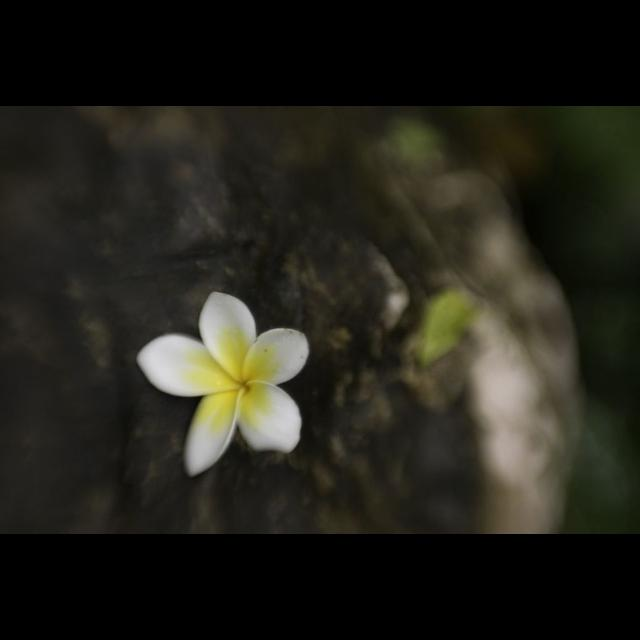Flower: (128, 290, 326, 472)
